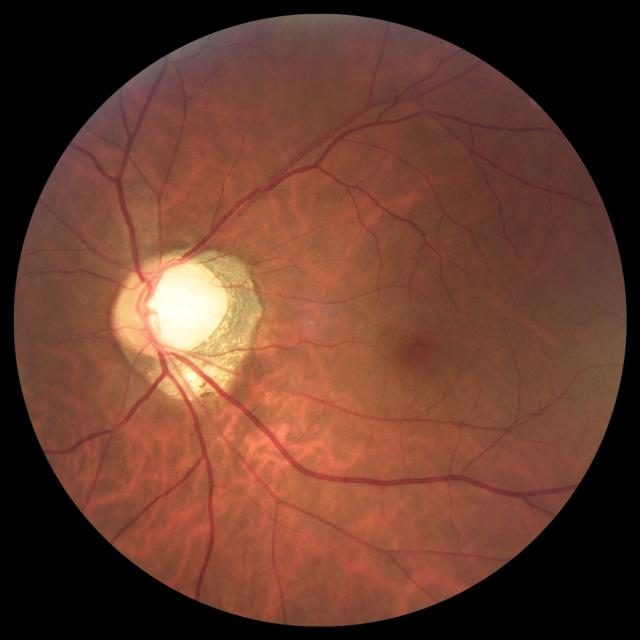OC: (142, 263, 222, 349)
OD: (113, 256, 224, 359)
